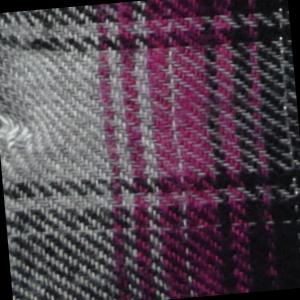Damage: (1, 11, 45, 166)
